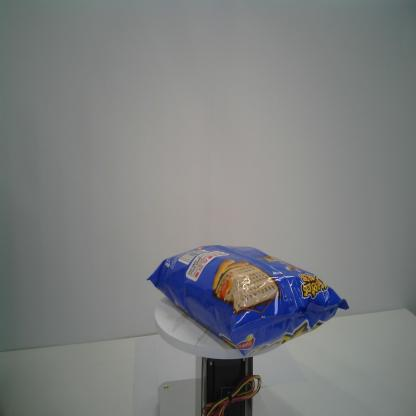Puffed Food: (146, 242, 349, 361)
